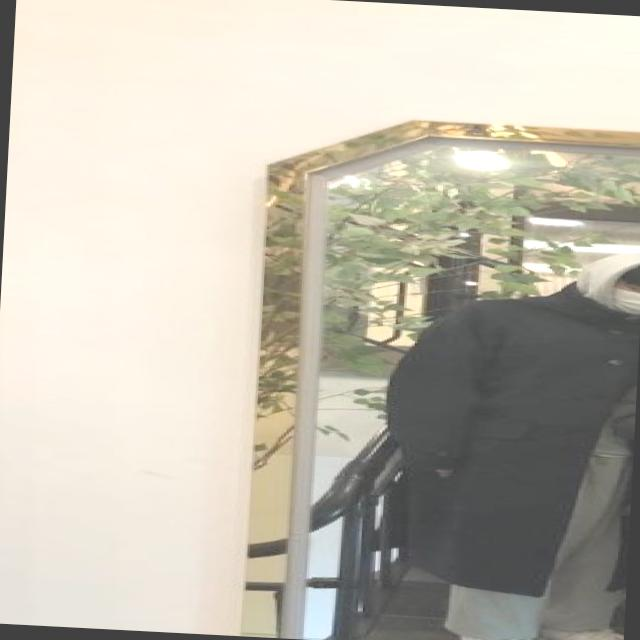coat: (379, 282, 640, 606)
denimpants: (444, 441, 633, 640)
